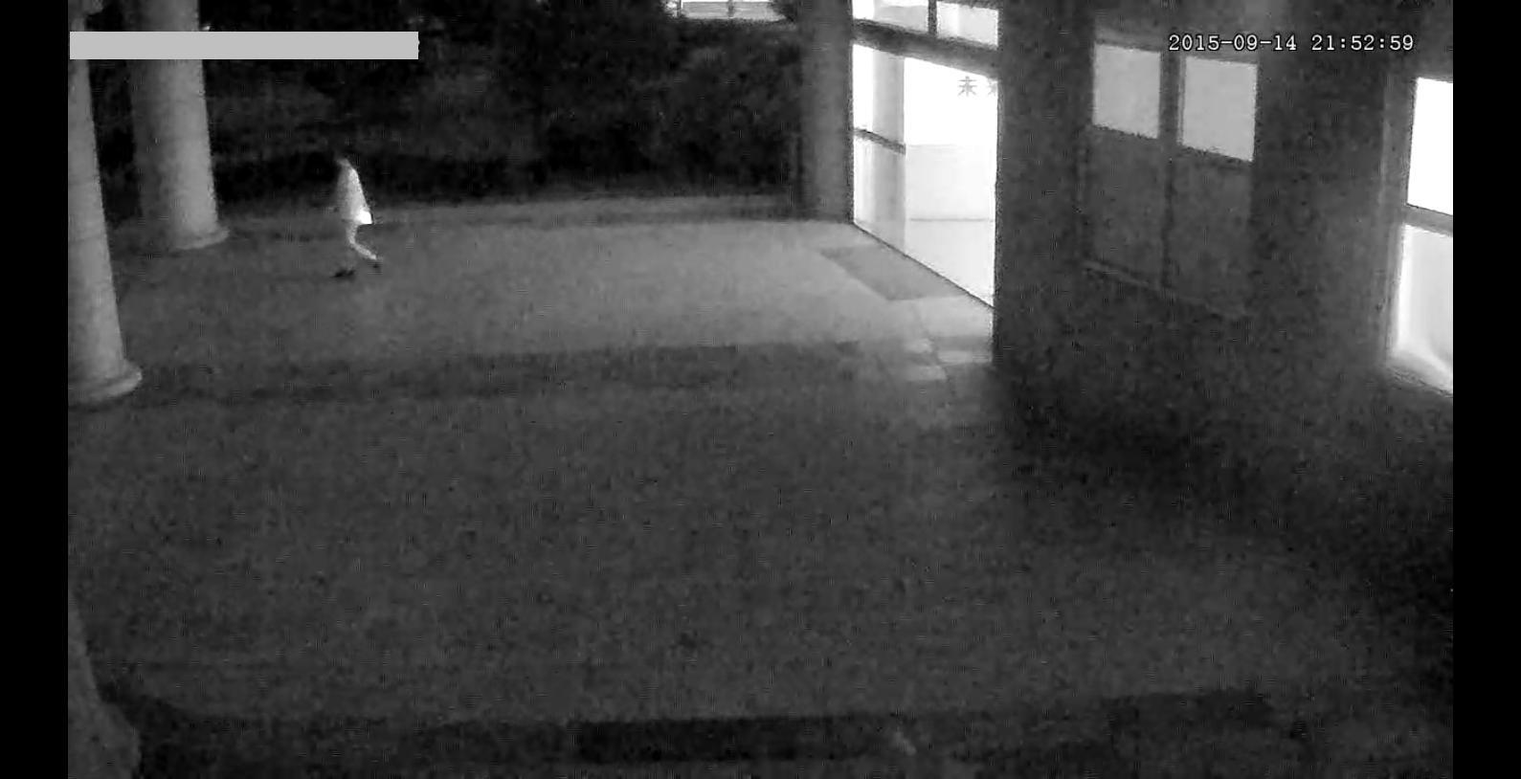person: (302, 127, 404, 297)
